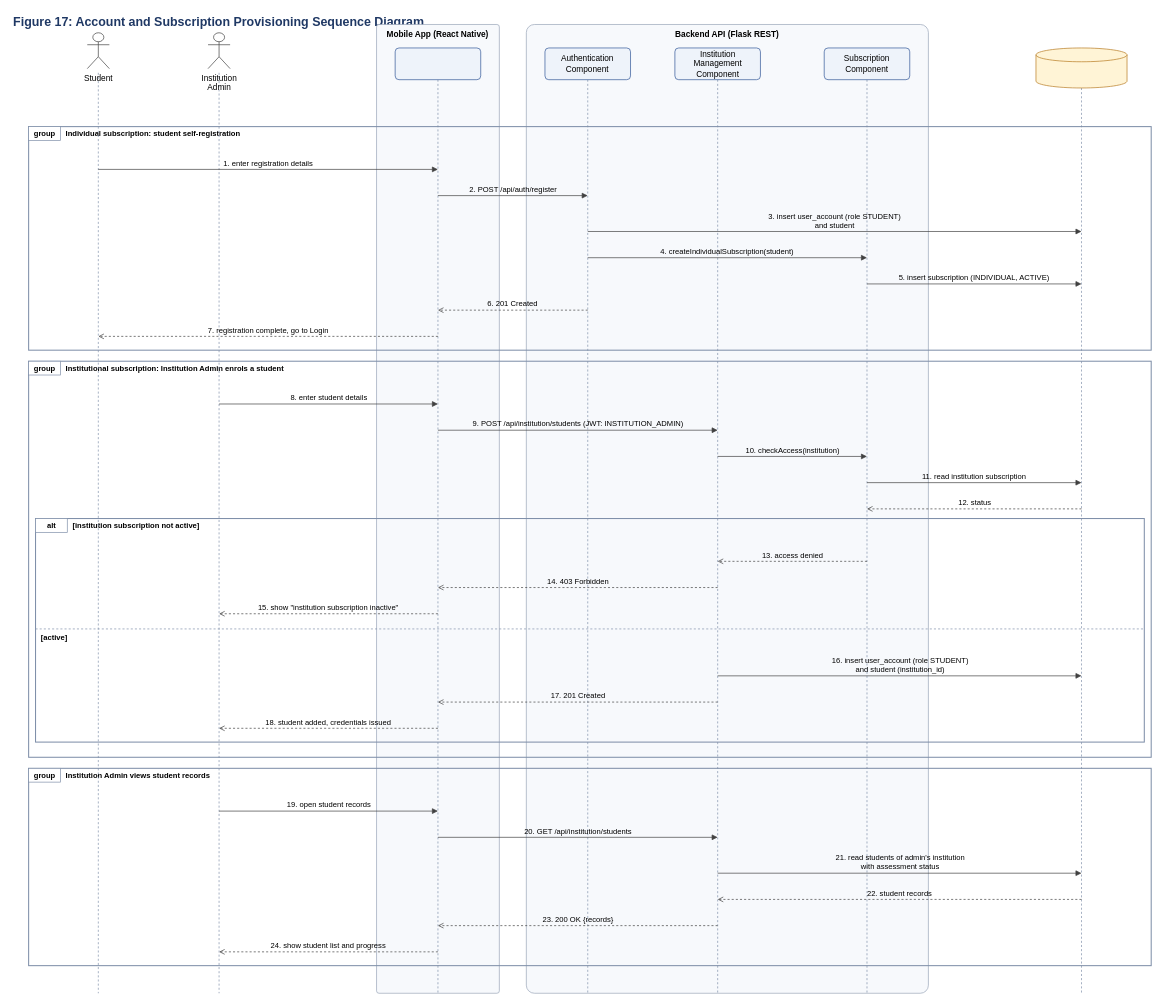
Image size: 1163x1006. Some labels were removed from this diagram. The shapes that lost their labels are listed below. From the top down, each one's centre as x and y in pixels, then its label:
At (437,63): "Mobile UI".
At (1081,67): "Database".
